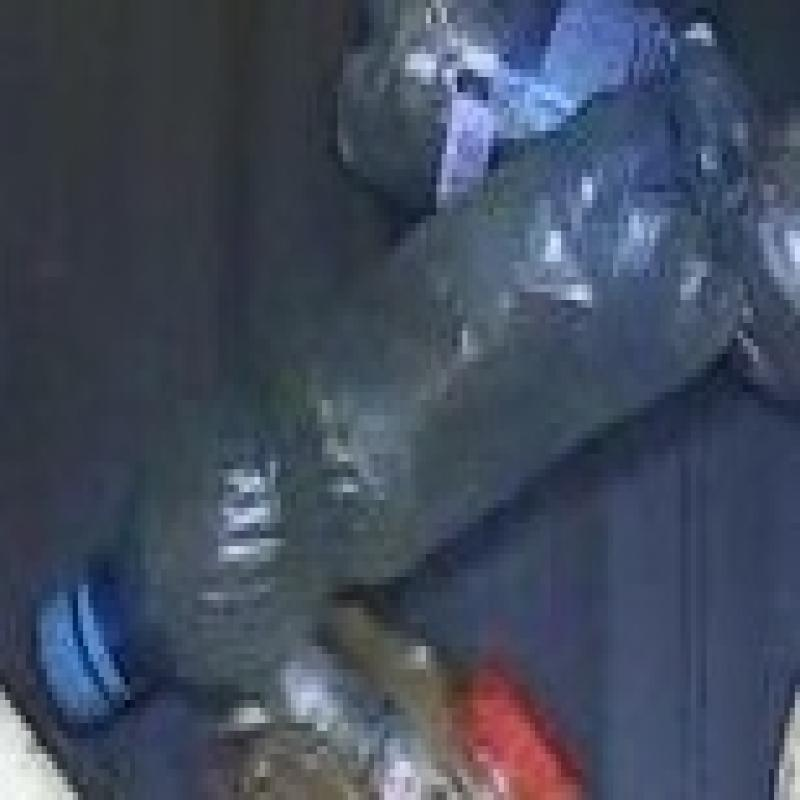botella: (19, 61, 764, 750), (337, 0, 800, 415)
